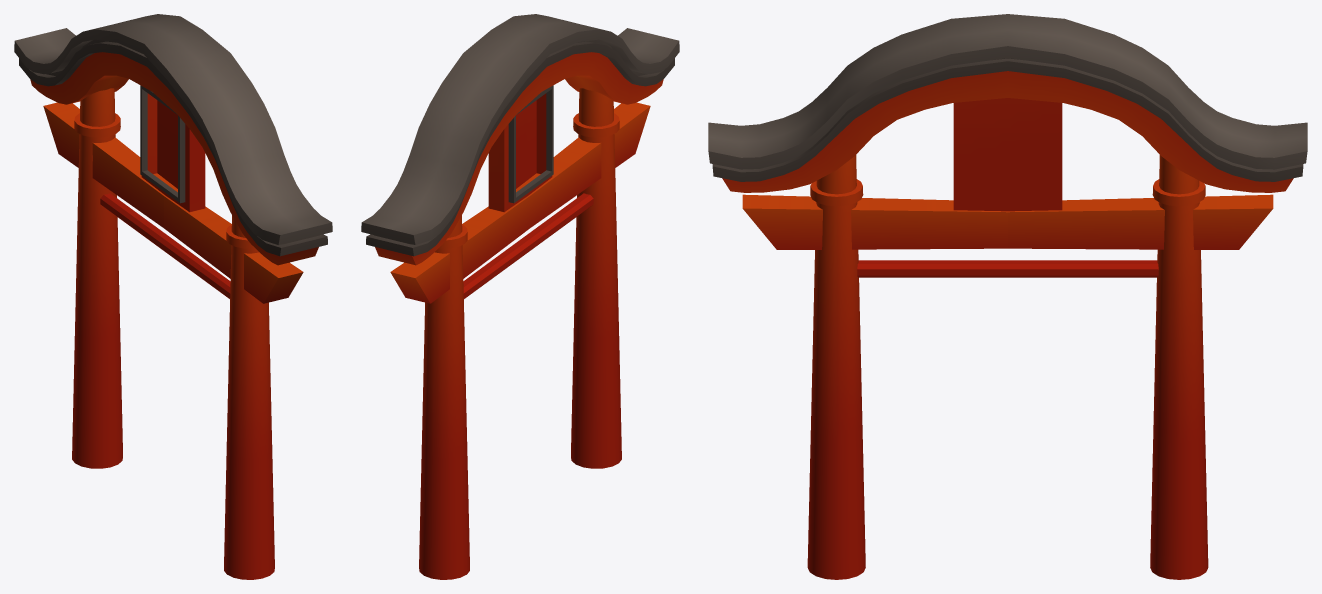
Rendered from Tori.fbx.
3 renders of one model, left to right at view 1: azimuth 30°, elevation 25°; view 2: azimuth 150°, elevation 25°; view 3: azimuth 270°, elevation 25°, orthographic. The views are drawn at different scales.
Visible parts, largest first — view 1: Cylinder.003; view 2: Cylinder.003; view 3: Cylinder.003.
Part boxes in pixels (bbox=[...]): Cylinder.003: bbox=[14, 14, 332, 579]; Cylinder.003: bbox=[361, 14, 679, 579]; Cylinder.003: bbox=[708, 14, 1307, 579].
Size of the model in its own units: 31.9 by 229 by 226.
